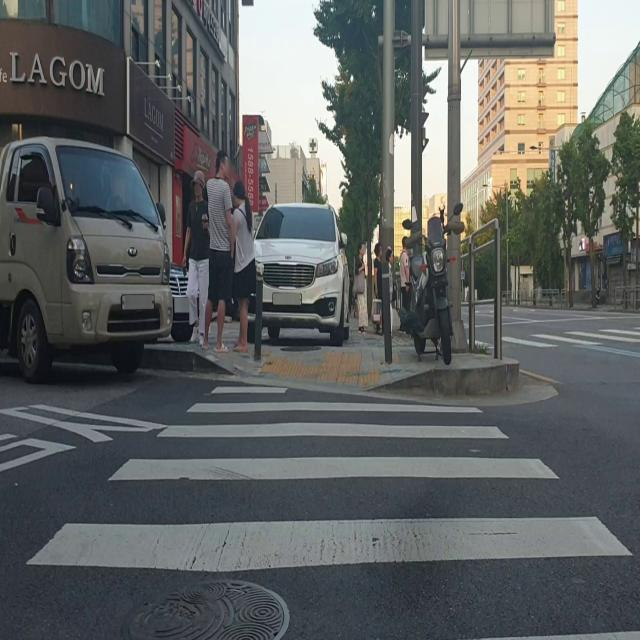횡단보도: (22, 377, 640, 640), (468, 325, 640, 360)
